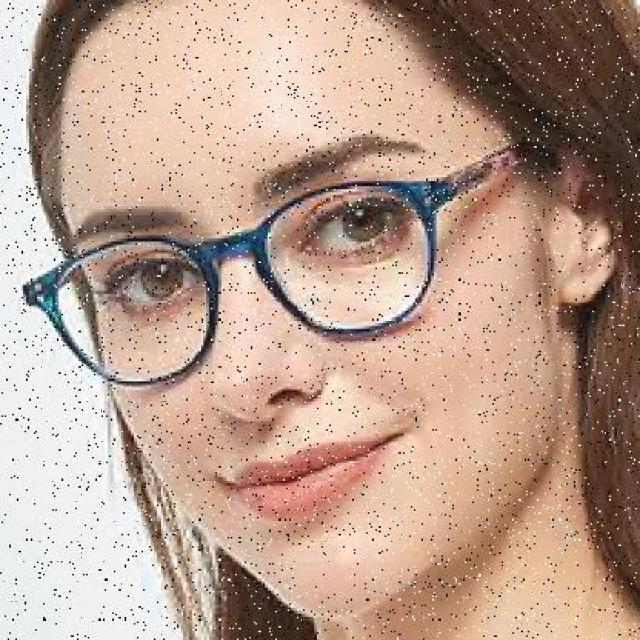mask: (9, 157, 466, 400)
